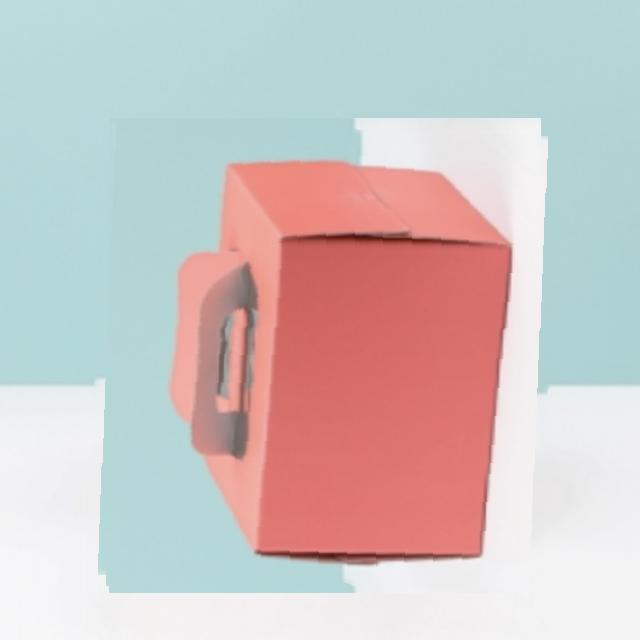biodegradable: (94, 125, 556, 586)
